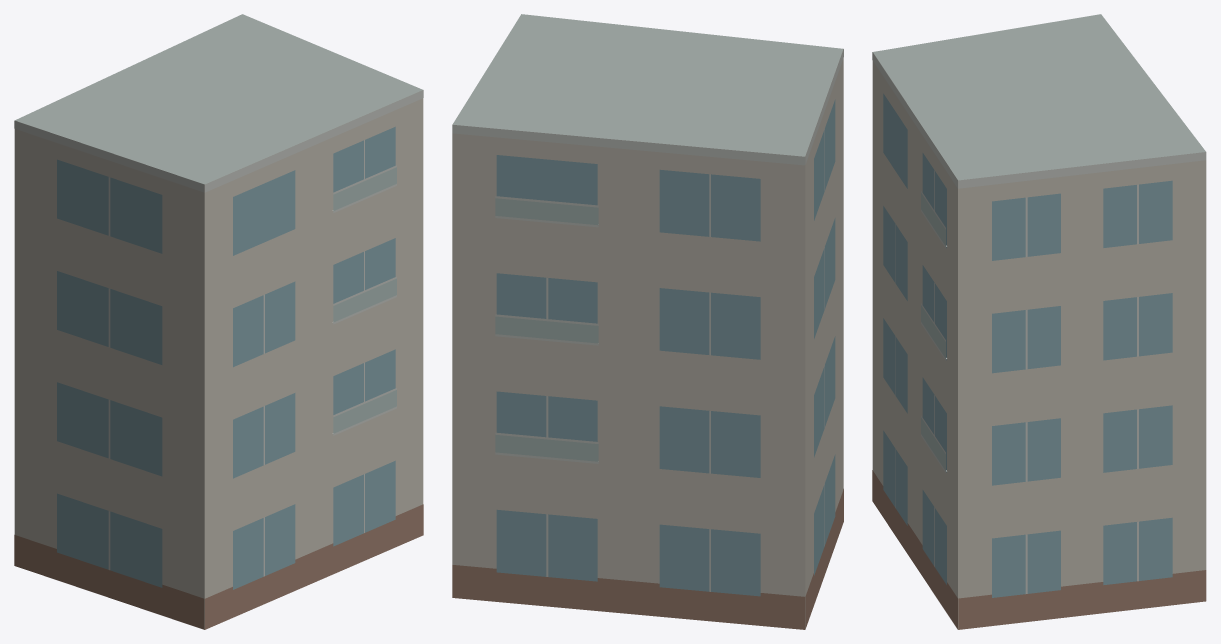
Rendered from survey-upis-32726173.glb.
The picture shows the model from 3 angles, left to right: view 1: azimuth 30°, elevation 25°; view 2: azimuth 150°, elevation 25°; view 3: azimuth 270°, elevation 25°; orthographic projection. The views are drawn at different scales.
Visible parts, largest first — view 1: survey-upis-32726173.tmp; view 2: survey-upis-32726173.tmp; view 3: survey-upis-32726173.tmp.
Boxes of the visible parts, box(x1,y1,x2,y2) form: survey-upis-32726173.tmp: box(14, 14, 423, 629); survey-upis-32726173.tmp: box(452, 14, 843, 629); survey-upis-32726173.tmp: box(872, 14, 1206, 629).
Bounding box in the file's own units: 10.53 × 13.25 × 8.93.
